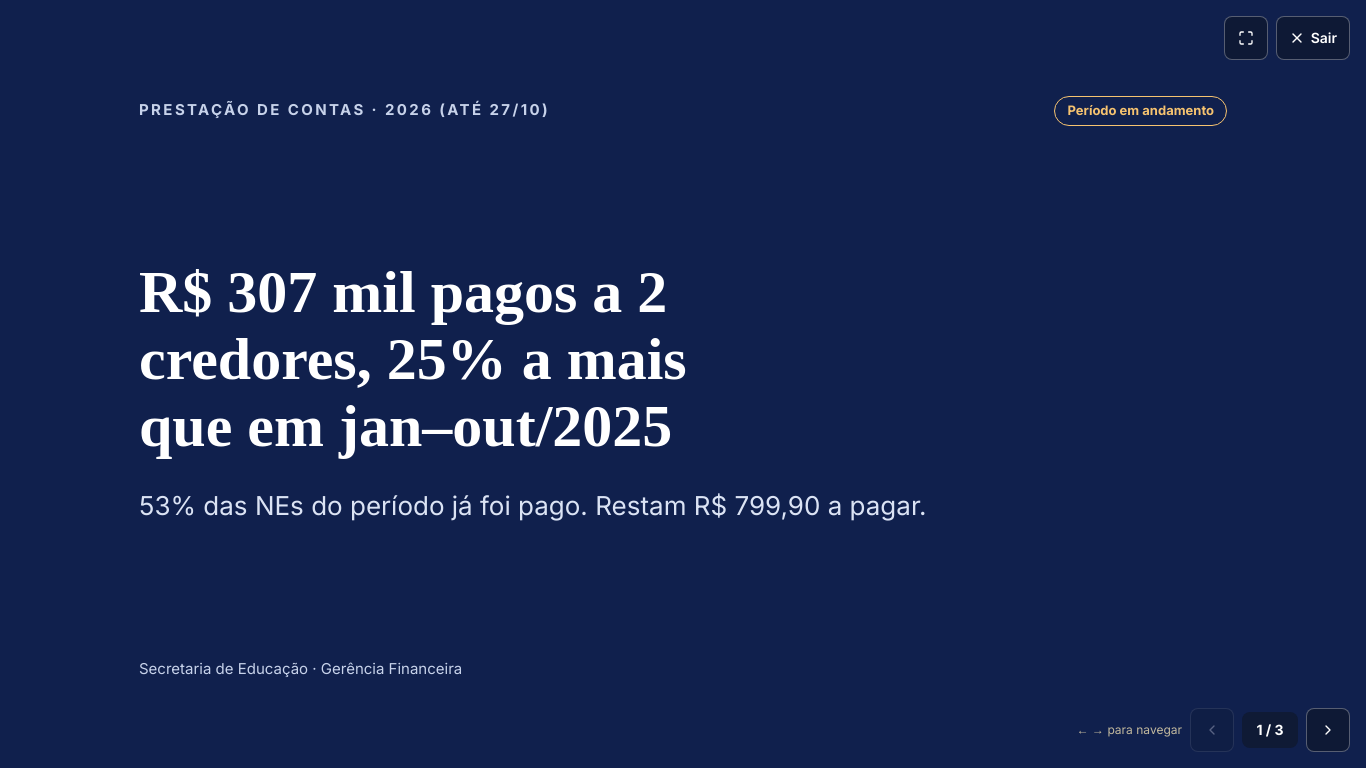
Test: Modo apresentação › botões ‹ ›, com ‹ desabilitado no primeiro e › no último
expect the button named "Slide anterior" is disabled: met, box [1190,708,1234,752]
Click the button named "Próximo slide": [1328, 730] box [1306,708,1350,752]
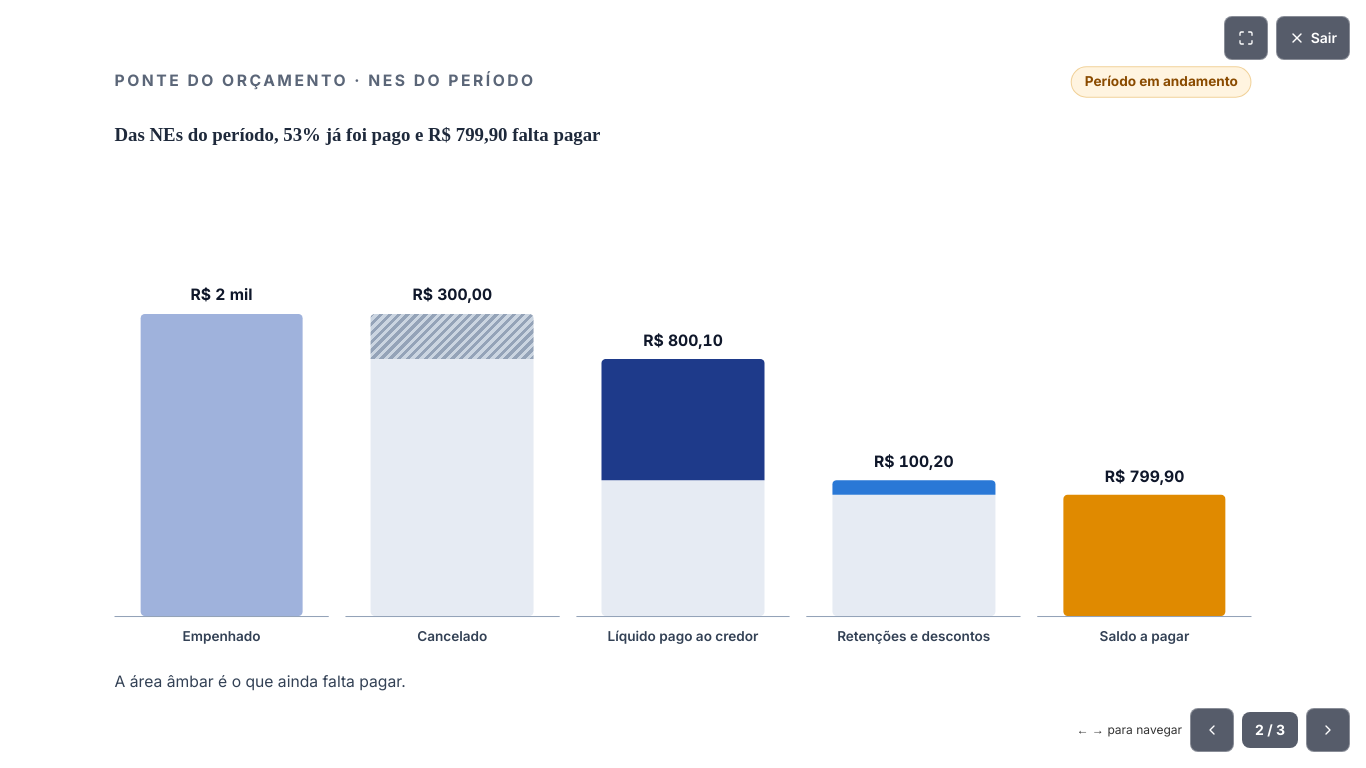
Click the button named "Próximo slide": [1328, 730] box [1306,708,1350,752]
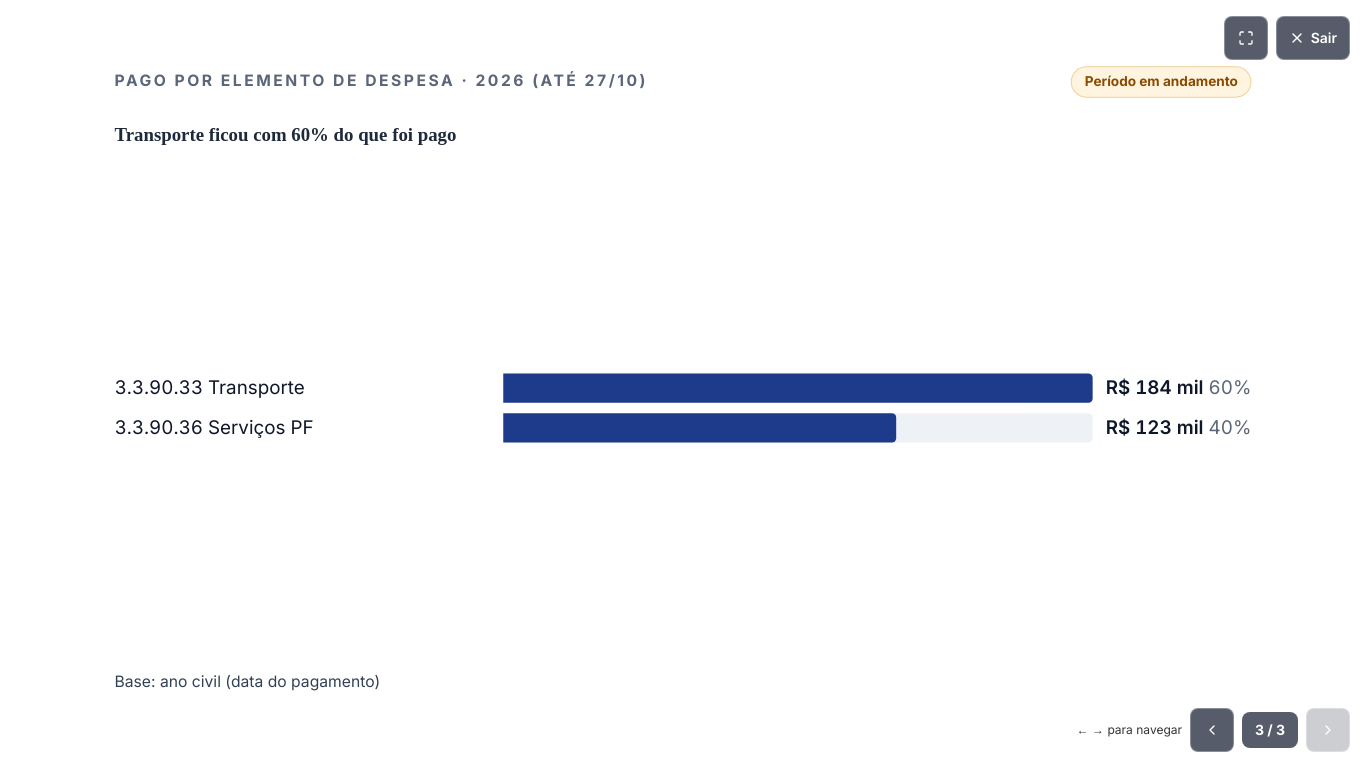
expect the button named "Próximo slide" is disabled: met, box [1306,708,1350,752]
